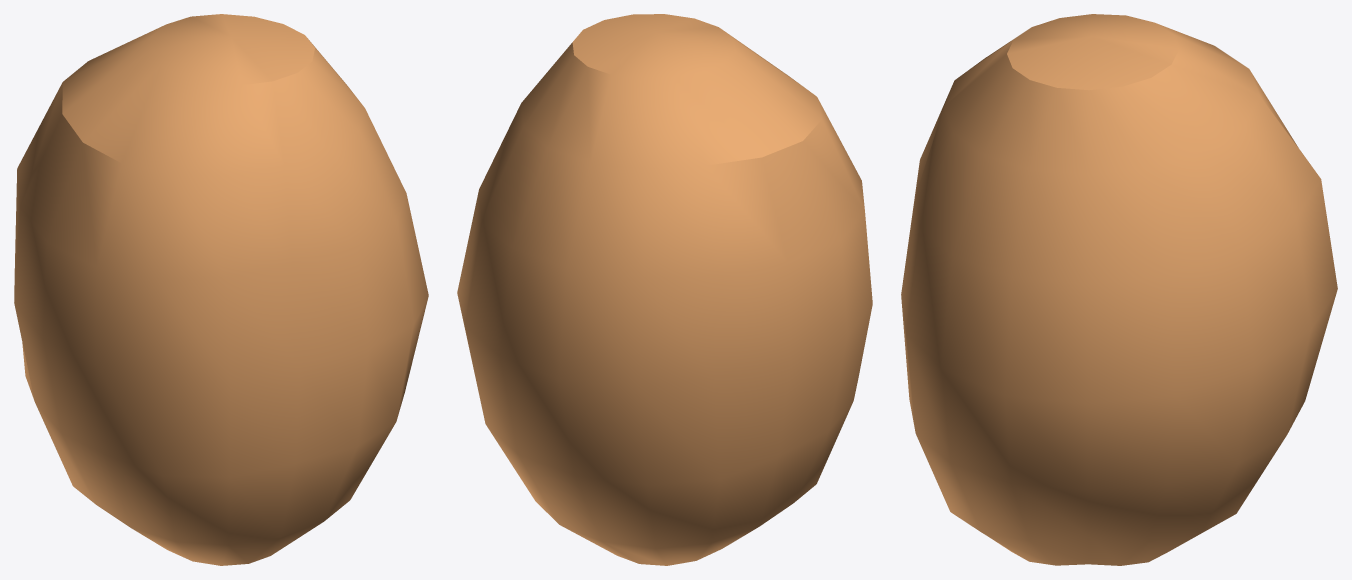
File: Potato_2.fbx
The picture shows the model from 3 angles, left to right: view 1: azimuth 30°, elevation 25°; view 2: azimuth 150°, elevation 25°; view 3: azimuth 270°, elevation 25°; orthographic projection. The views are drawn at different scales.
Visible parts, largest first — view 1: Potato_2; view 2: Potato_2; view 3: Potato_2.
Part boxes in pixels (left/top/right/bottom): Potato_2: left=14, top=14, right=428, bottom=565; Potato_2: left=457, top=14, right=872, bottom=565; Potato_2: left=901, top=14, right=1337, bottom=565.
Size of the model in its own units: 5.52 by 7.31 by 5.54.
